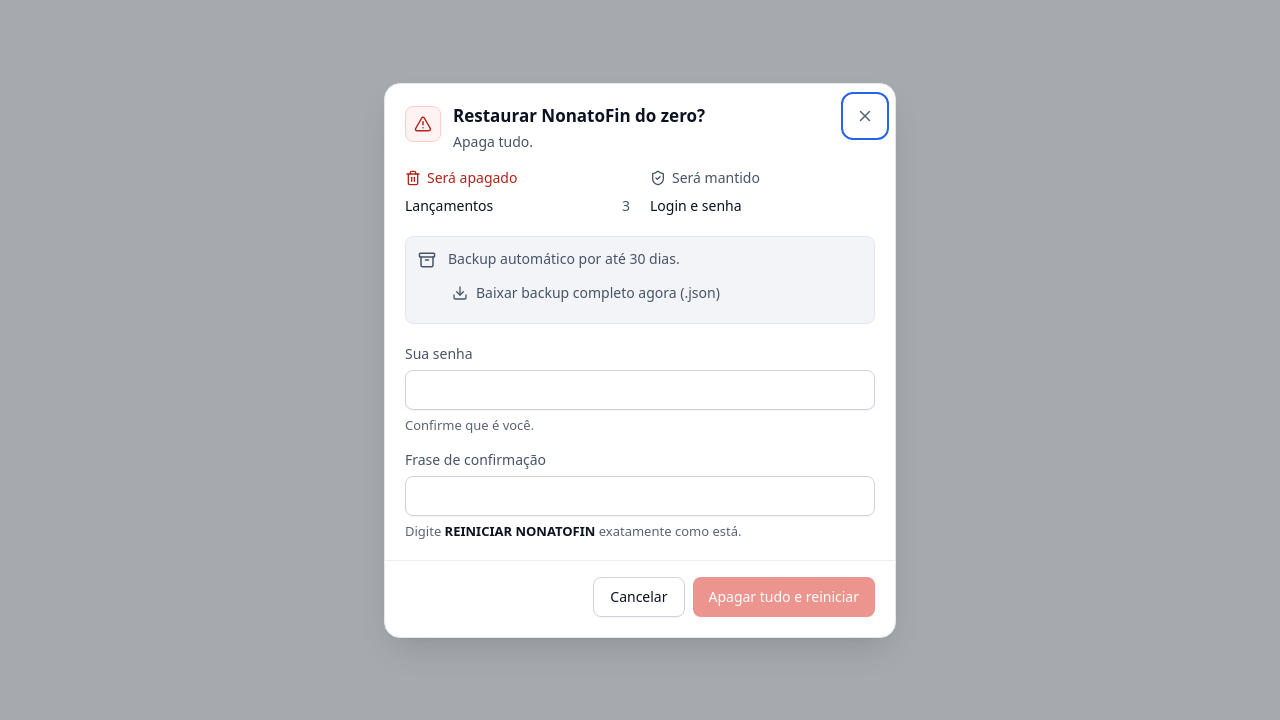
Test: DialogoConfirmacaoForte › envia senha e frase; senha errada aparece no campo
The width and height of the screenshot is (1280, 720).
Type "errada" into the password field with test id "limpeza-completo-senha" at {"x": 640, "y": 390}, box x1=405 y1=370 x2=875 y2=410
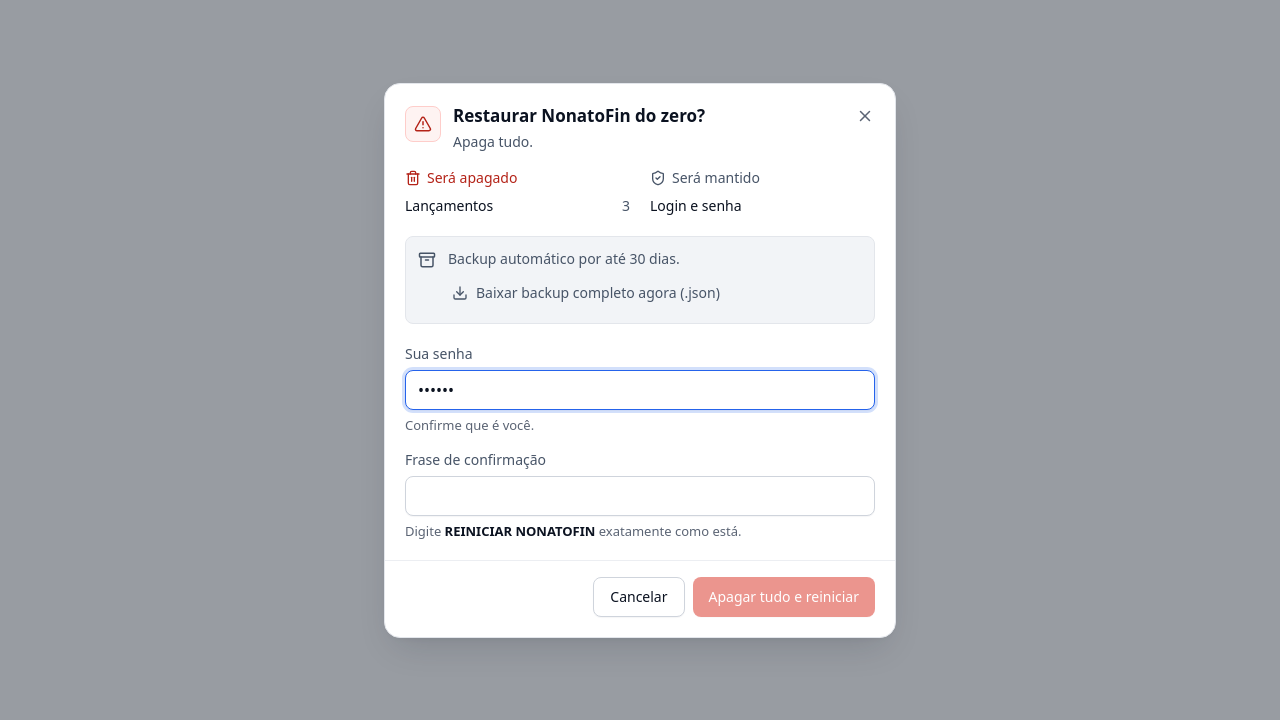
Type "REINICIAR NONATOFIN" into the field with test id "limpeza-completo-frase" at {"x": 640, "y": 496}, box x1=405 y1=476 x2=875 y2=516
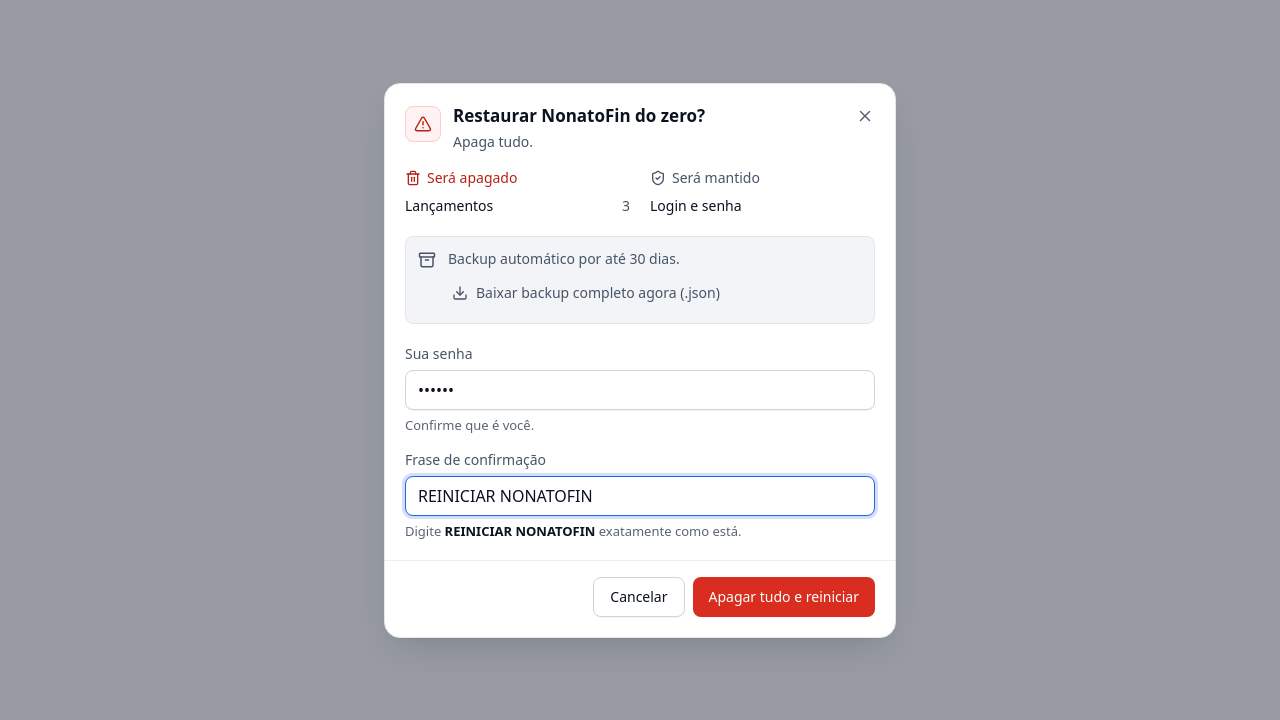
Click the button with test id "limpeza-completo-confirmar" at {"x": 784, "y": 596}, box x1=692 y1=576 x2=875 y2=616
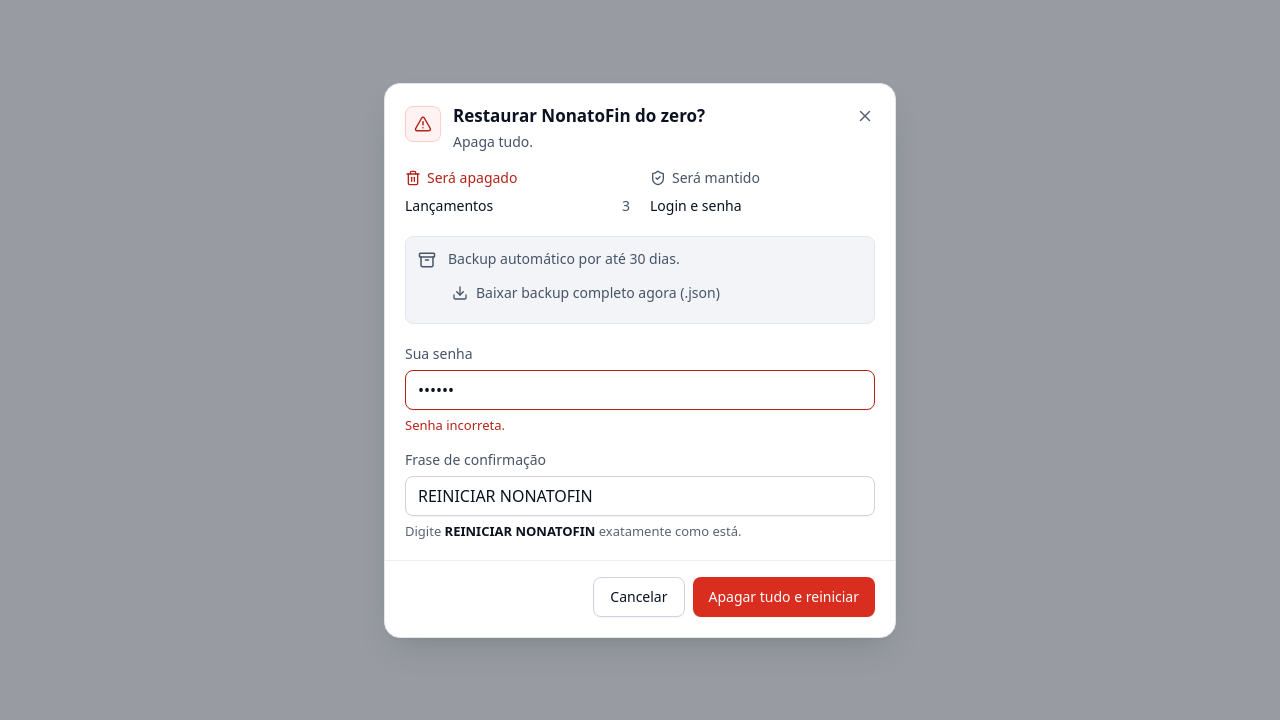
Expected: the message reads "Senha incorreta.", x1=405 y1=416 x2=505 y2=434
